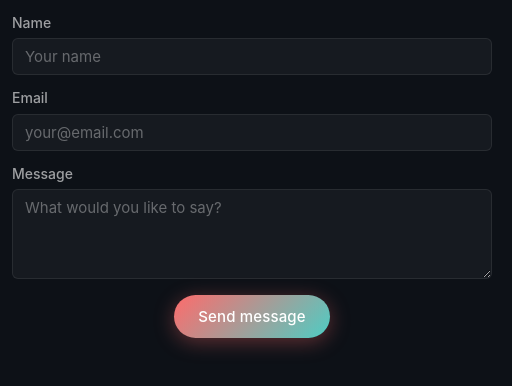
Test: ContactForm › submission › shows success message after successful submit
The width and height of the screenshot is (512, 386).
Type "Alastair" into the field labelled "Name" at (252, 57), box left=12, top=38, right=492, bottom=75
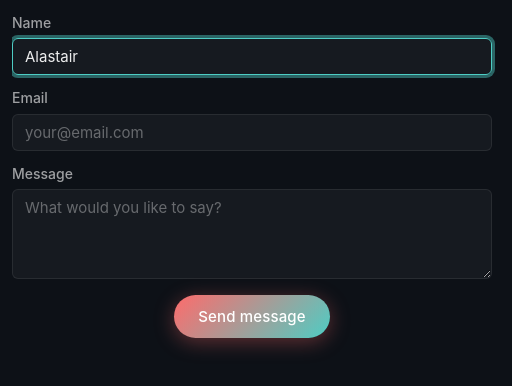
Type "test@example.com" into the field labelled "Email" at (252, 132), box left=12, top=114, right=492, bottom=151
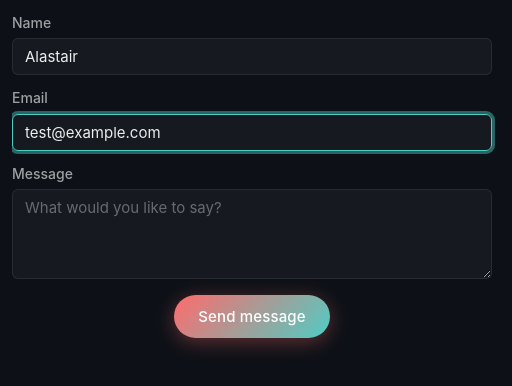
Type "Hello there" into the text box labelled "Message" at (252, 234), box left=12, top=189, right=492, bottom=279
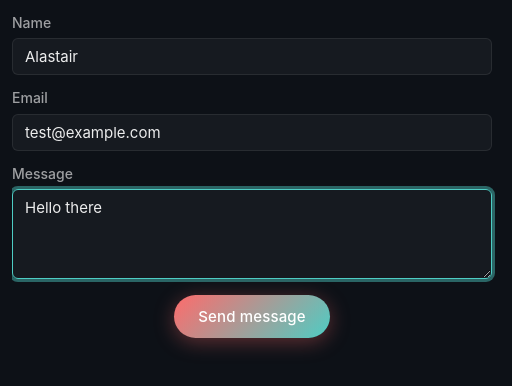
Click the button "Send message" at (252, 317), box left=174, top=295, right=330, bottom=338
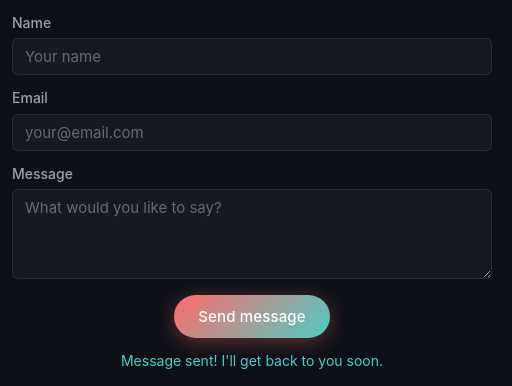
expect the message shows "Message sent": met, box left=121, top=352, right=383, bottom=369
